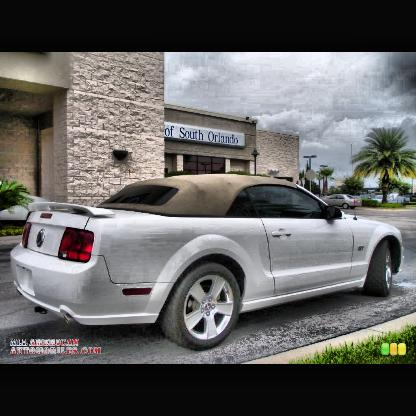Ford Mustang Convertible 2007: (12, 173, 408, 348)
